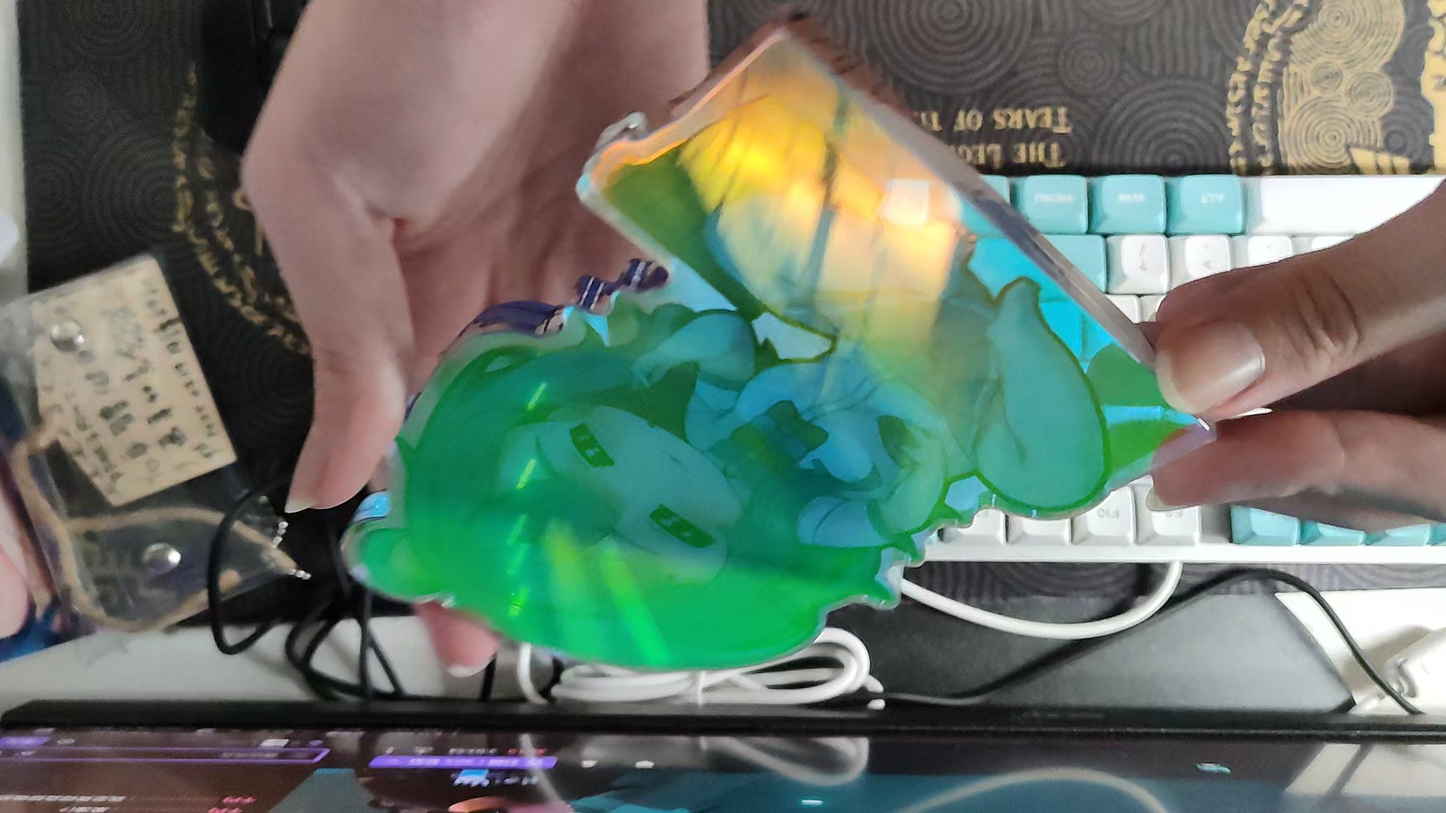Yanami-anna: (342, 14, 1218, 674)
